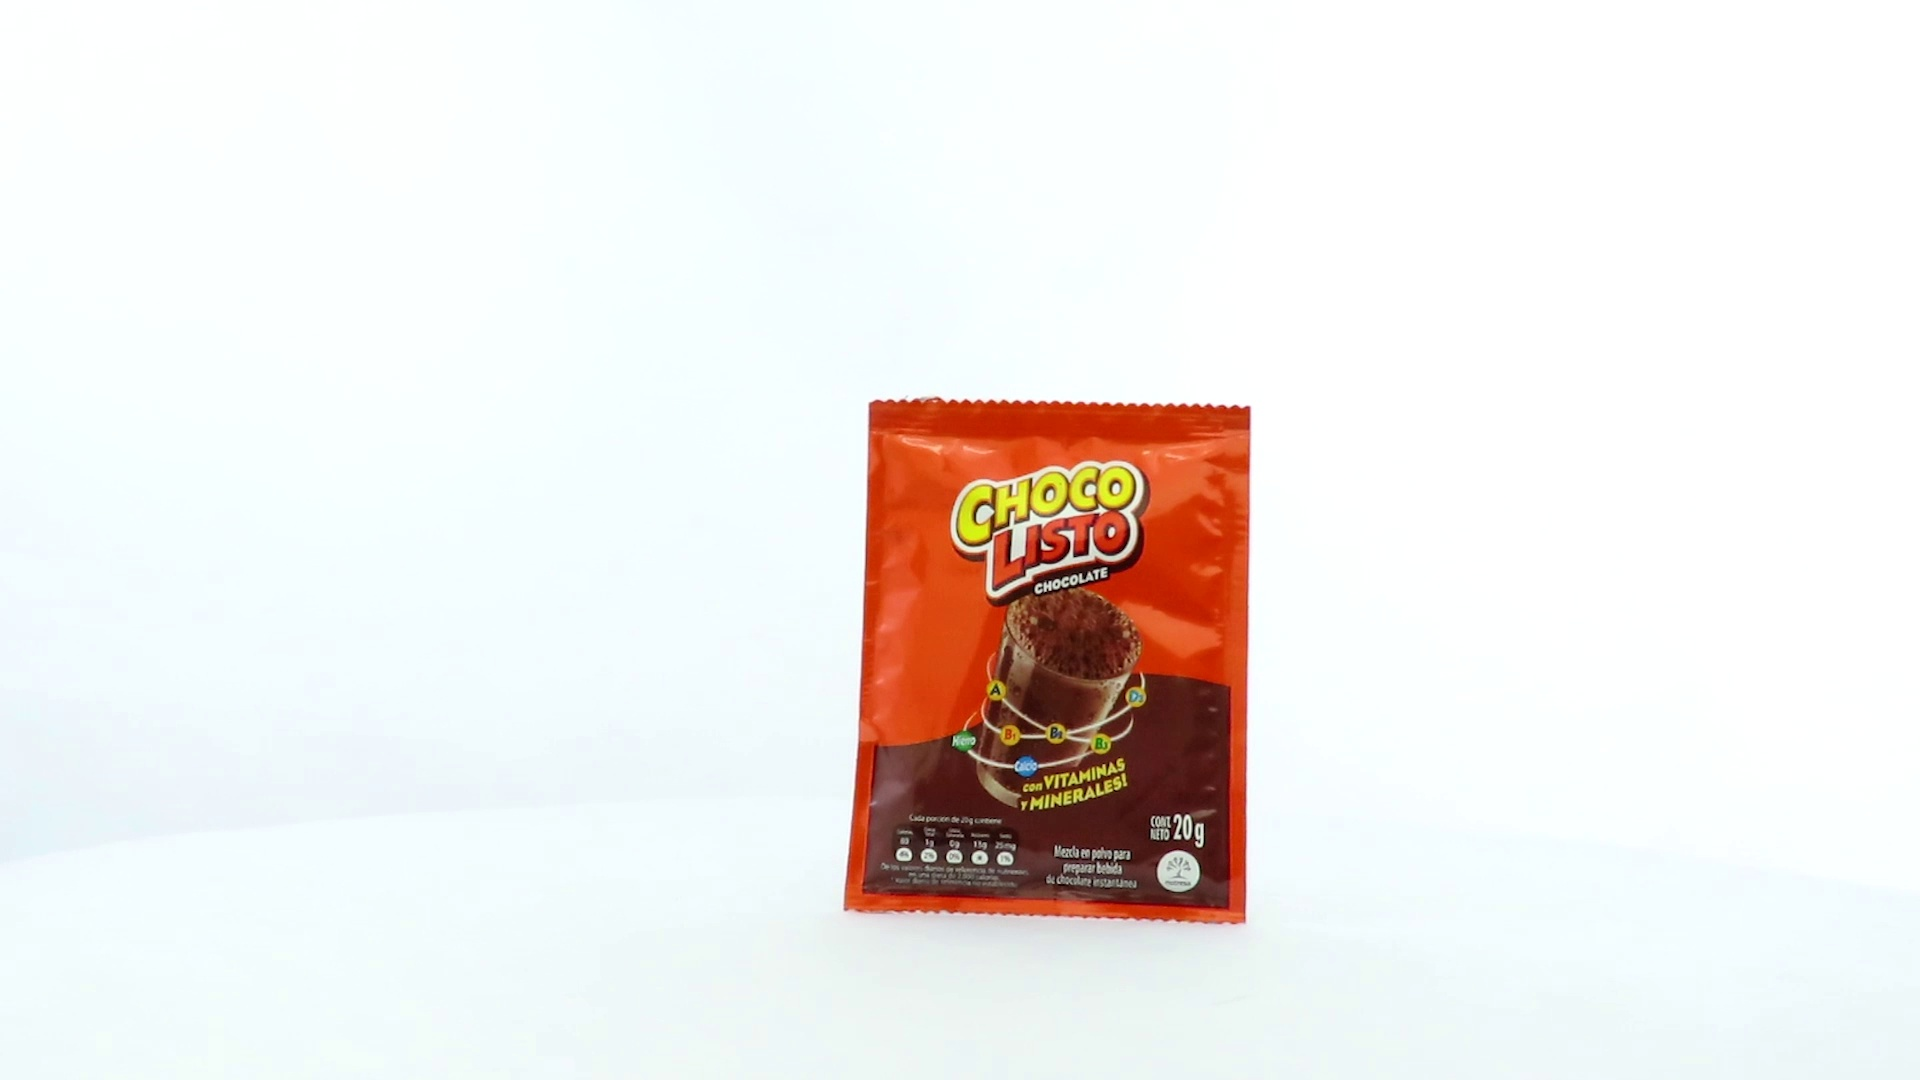COL0170103SOB02000: (837, 392, 1257, 931)
